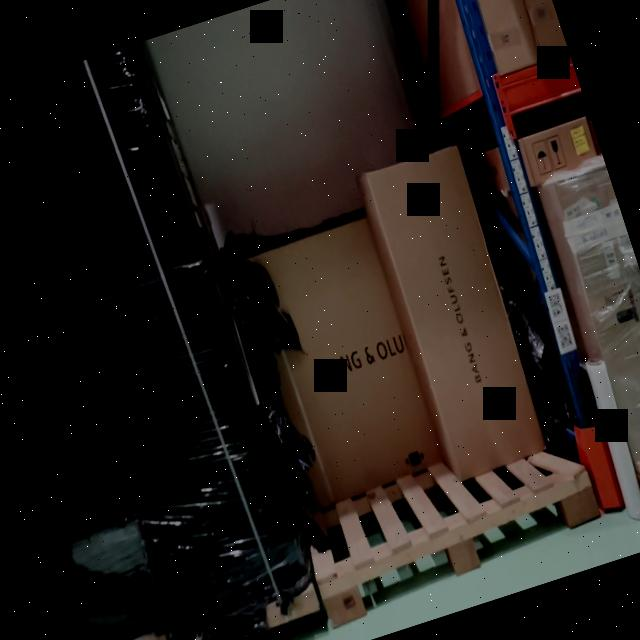box: (0, 46, 302, 640), (224, 218, 444, 508), (361, 148, 548, 480), (552, 163, 640, 455), (522, 118, 598, 180)
